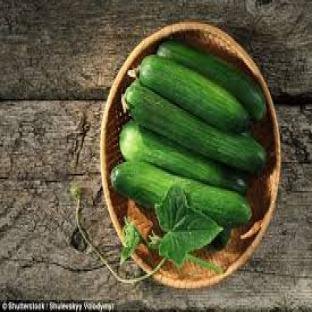Cucumber: (125, 81, 265, 172), (120, 122, 247, 194), (112, 162, 250, 226), (157, 41, 265, 121), (140, 55, 249, 132), (213, 227, 231, 250)
